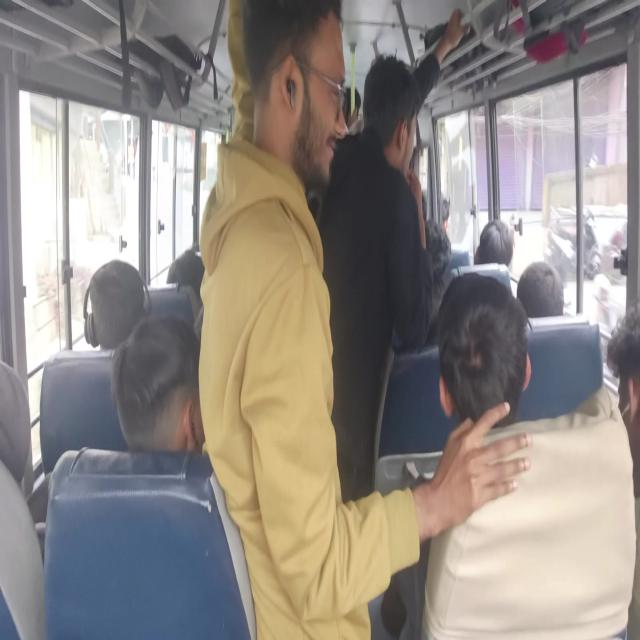person: (255, 19, 379, 224), (454, 292, 564, 486), (417, 228, 523, 390), (112, 335, 211, 489), (80, 275, 169, 370), (491, 220, 576, 314), (172, 247, 245, 335), (519, 248, 568, 322), (372, 86, 418, 162), (607, 328, 640, 412), (0, 377, 53, 426)
